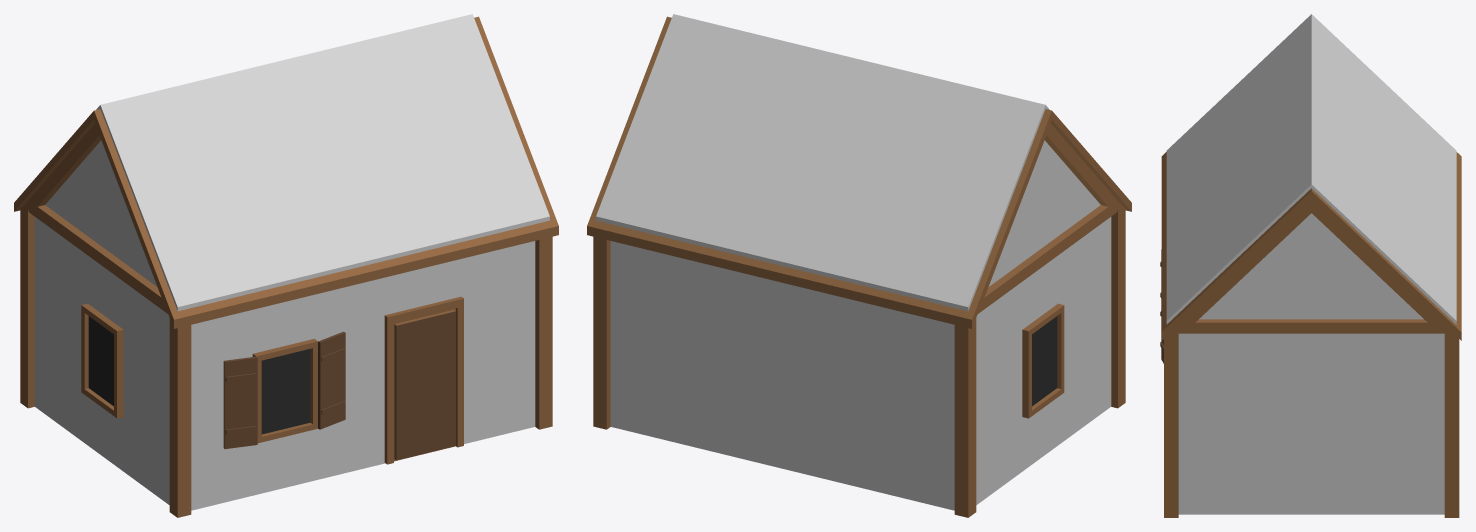
The model's file is House_snow_mat.fbx.
3 renders of one model, left to right at view 1: azimuth 30°, elevation 25°; view 2: azimuth 150°, elevation 25°; view 3: azimuth 270°, elevation 25°, orthographic. The views are drawn at different scales.
Visible parts, largest first — view 1: House_snow_mat; view 2: House_snow_mat; view 3: House_snow_mat.
Boxes of the visible parts, x1,y1,x2,y2 form: House_snow_mat: [14, 14, 558, 517]; House_snow_mat: [587, 14, 1131, 517]; House_snow_mat: [1160, 14, 1461, 517].
Size of the model in its own units: 284 by 250 by 205.
